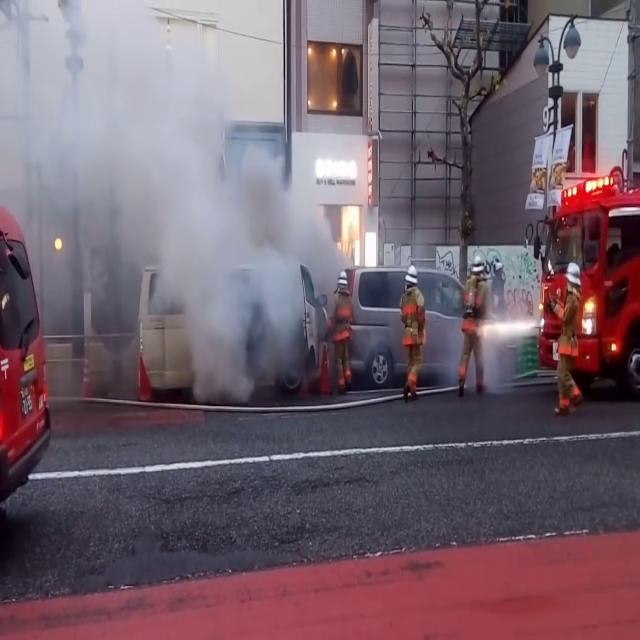Smoke: (5, 2, 341, 412)
